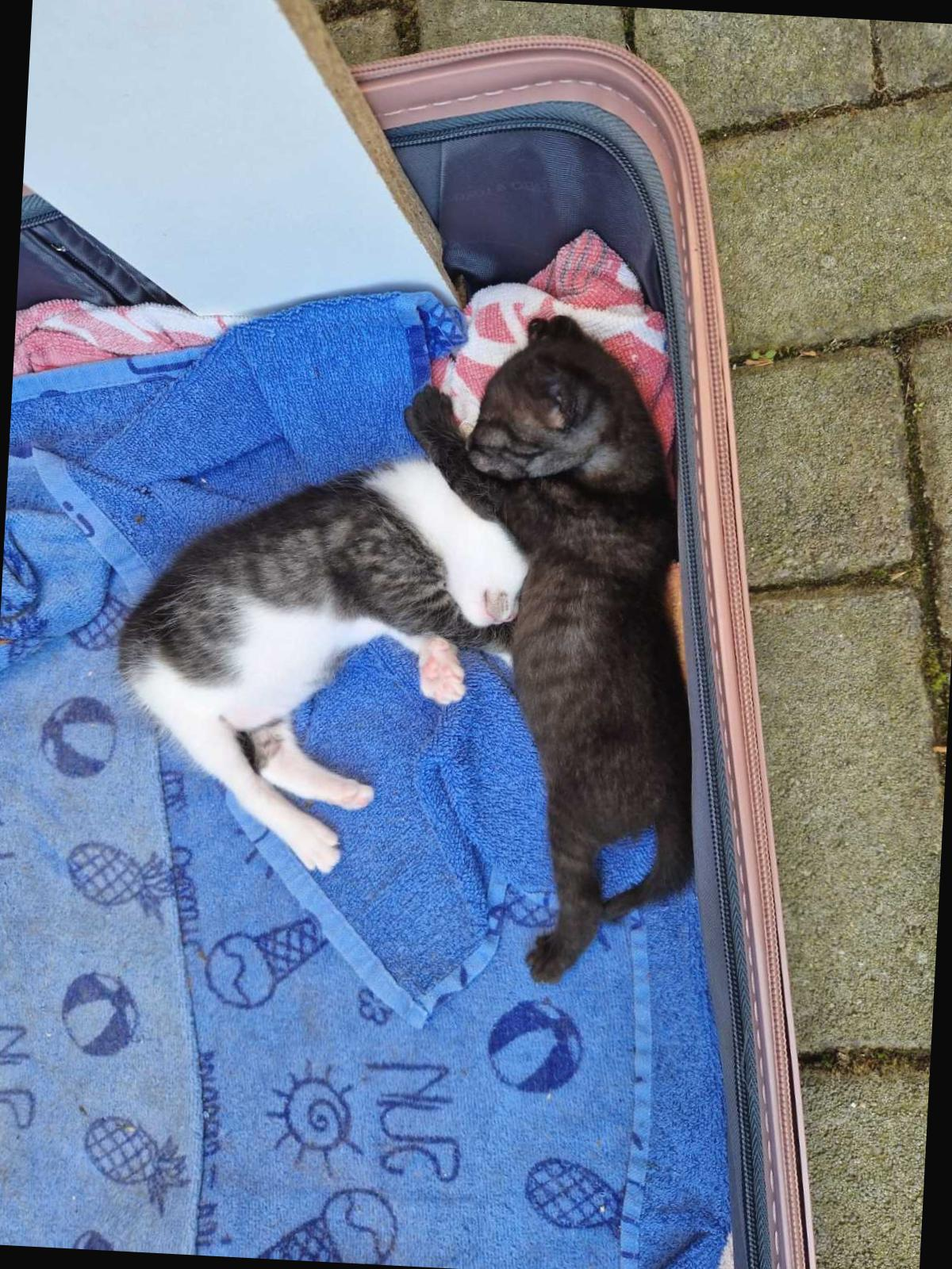macka: (375, 290, 726, 1001), (120, 406, 548, 883)
